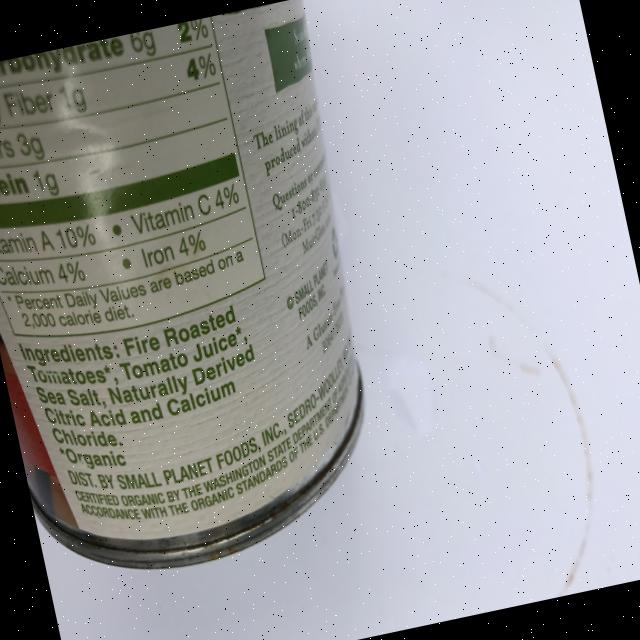metal: (0, 0, 412, 594)
